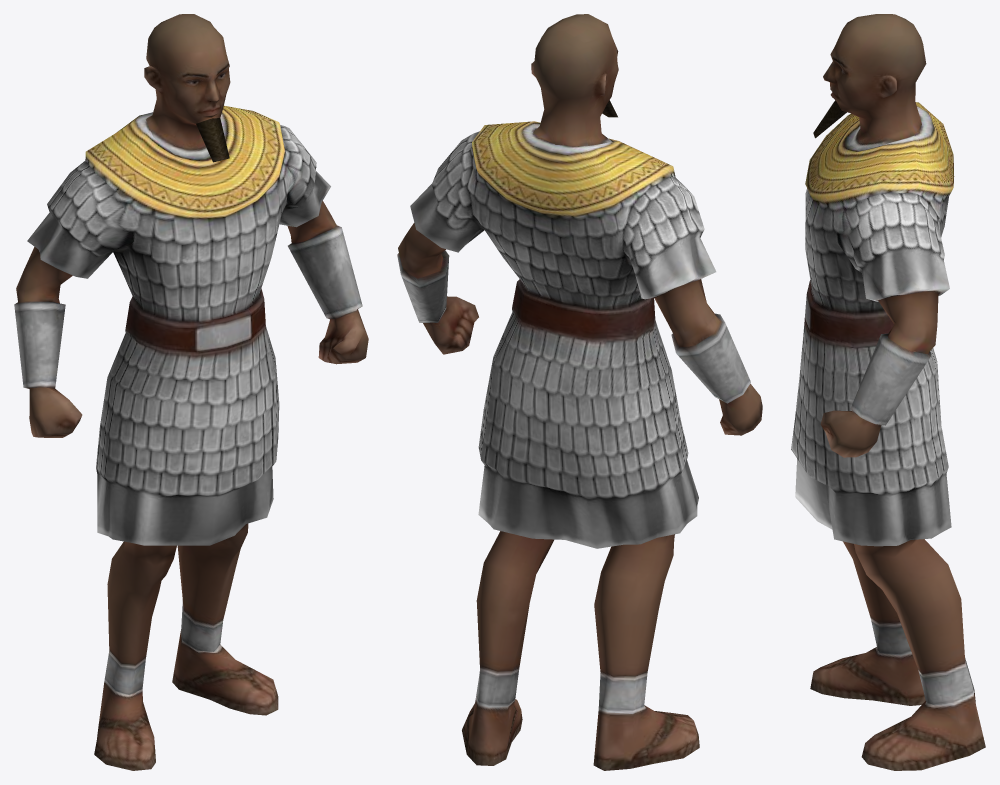
Rendered from rider-slice-championchariotarchers.glb.
3 renders of one model, left to right at view 1: azimuth 30°, elevation 25°; view 2: azimuth 150°, elevation 25°; view 3: azimuth 270°, elevation 25°, orthographic.
Size of the model in its own units: 0.9978 by 2.04 by 0.509.
1 material, 1 textured.
